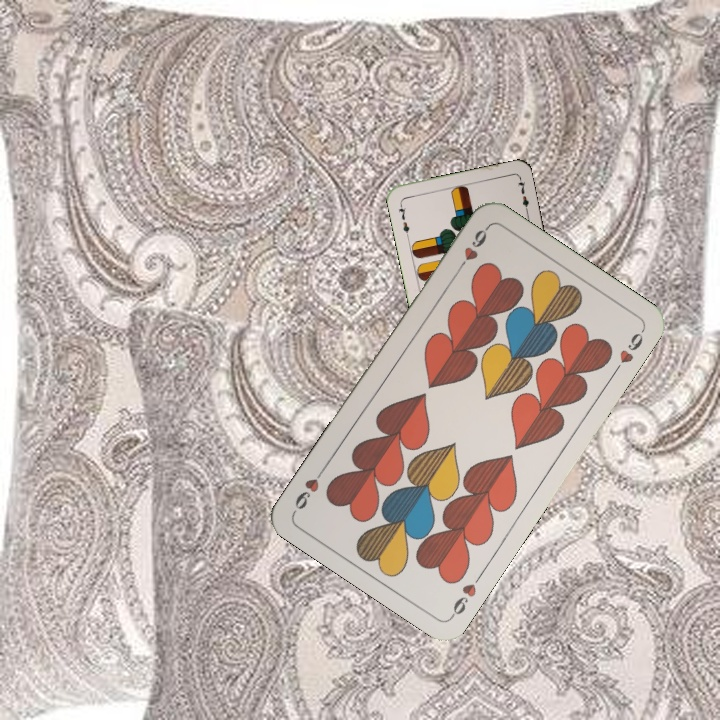E7: (394, 199, 412, 239)
H9: (446, 568, 486, 620), (453, 223, 492, 275)
